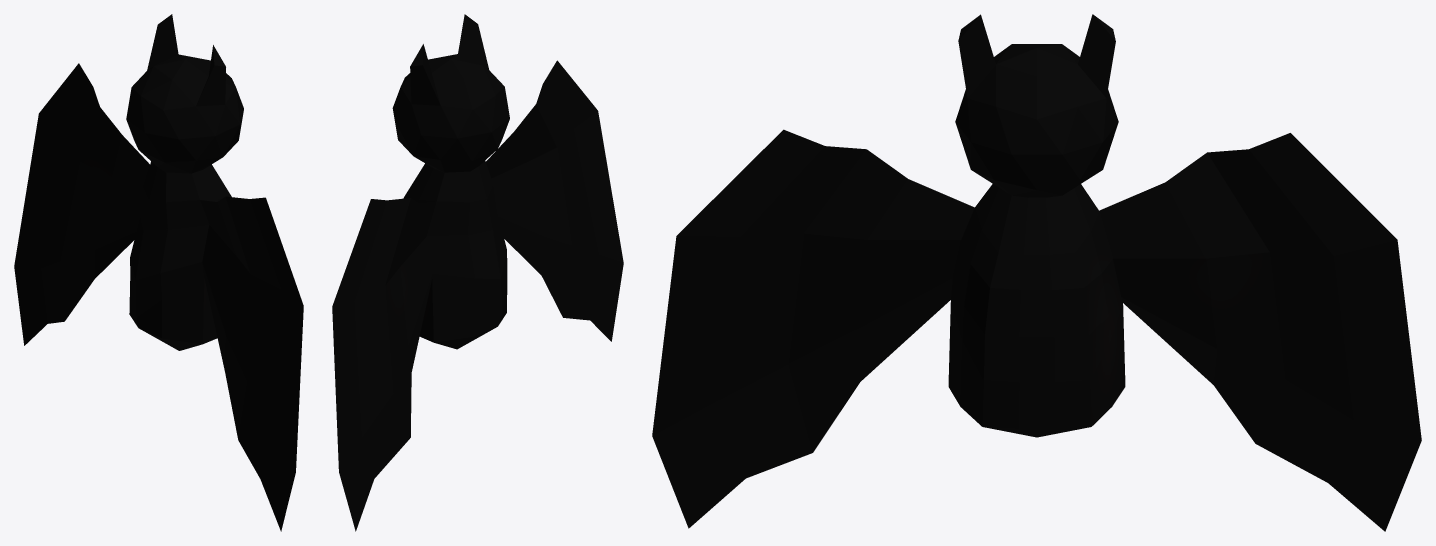
The model's file is JamLepakko.fbx.
The picture shows the model from 3 angles, left to right: view 1: azimuth 30°, elevation 25°; view 2: azimuth 150°, elevation 25°; view 3: azimuth 270°, elevation 25°; orthographic projection. The views are drawn at different scales.
Parts seen in each view (by area): view 1: Icosphere; view 2: Icosphere; view 3: Icosphere.
Part boxes in pixels (x1=…): Icosphere: x1=14, y1=14, x2=303, y2=531; Icosphere: x1=332, y1=14, x2=623, y2=531; Icosphere: x1=652, y1=14, x2=1421, y2=531.
Bounding box in the file's own units: 191 × 735 × 942.
